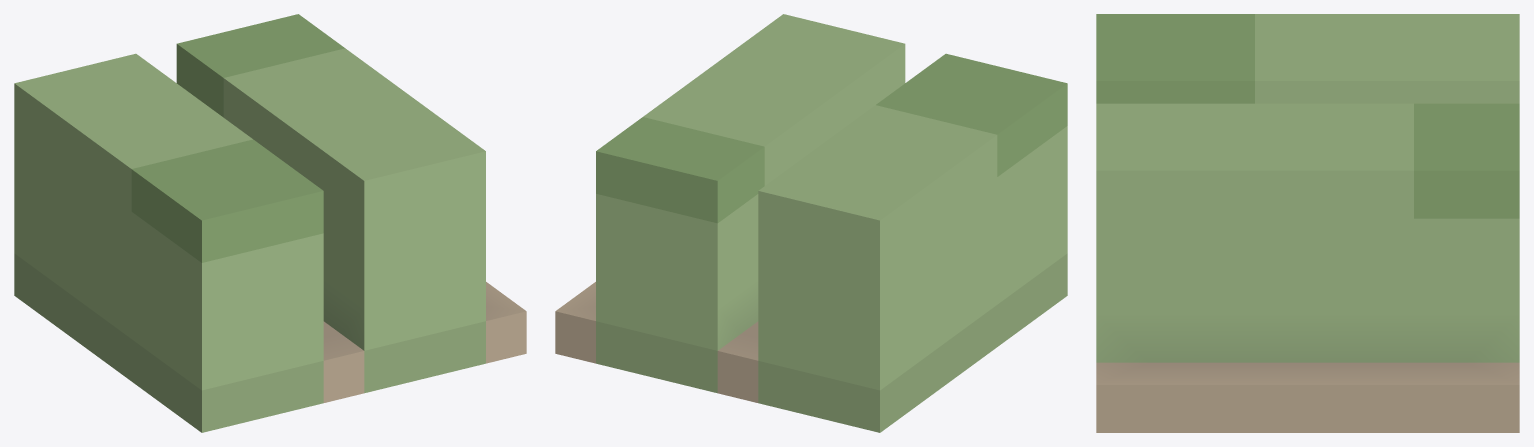
Rendered from hemp_field.glb.
3 views of the same model, side by side, from view 1: azimuth 30°, elevation 25°; view 2: azimuth 150°, elevation 25°; view 3: azimuth 270°, elevation 25° (orthographic). The views are drawn at different scales.
Visible parts, largest first — view 1: hemp_field; view 2: hemp_field; view 3: hemp_field.
Boxes of the visible parts, box(x1,y1,x2,y2) form: hemp_field: box(14, 14, 526, 432); hemp_field: box(555, 14, 1067, 432); hemp_field: box(1096, 14, 1519, 432).
Size of the model in its own units: 1 by 0.625 by 1.
